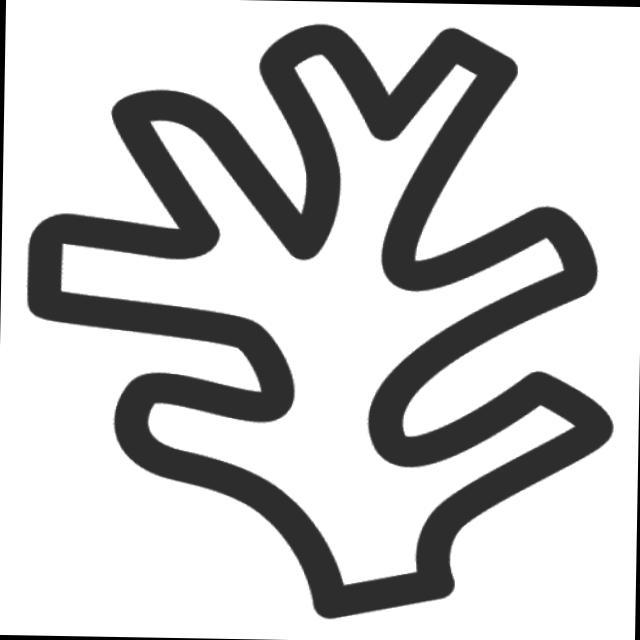coral: (15, 5, 632, 635)
